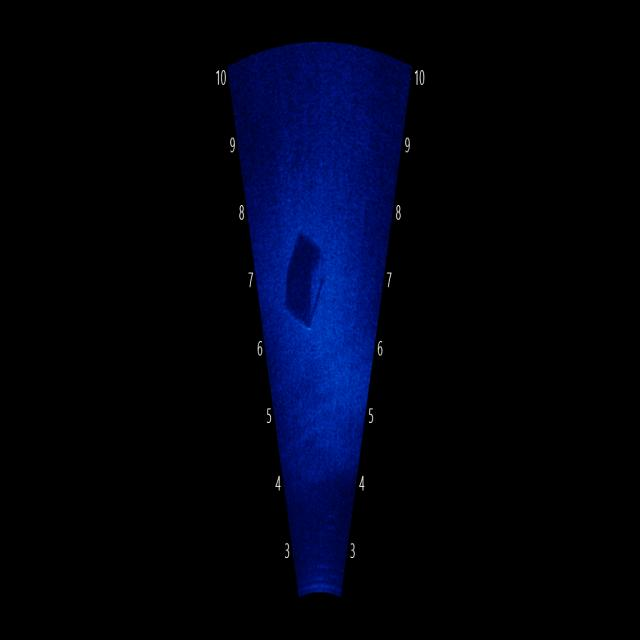square: (273, 205, 332, 368)
